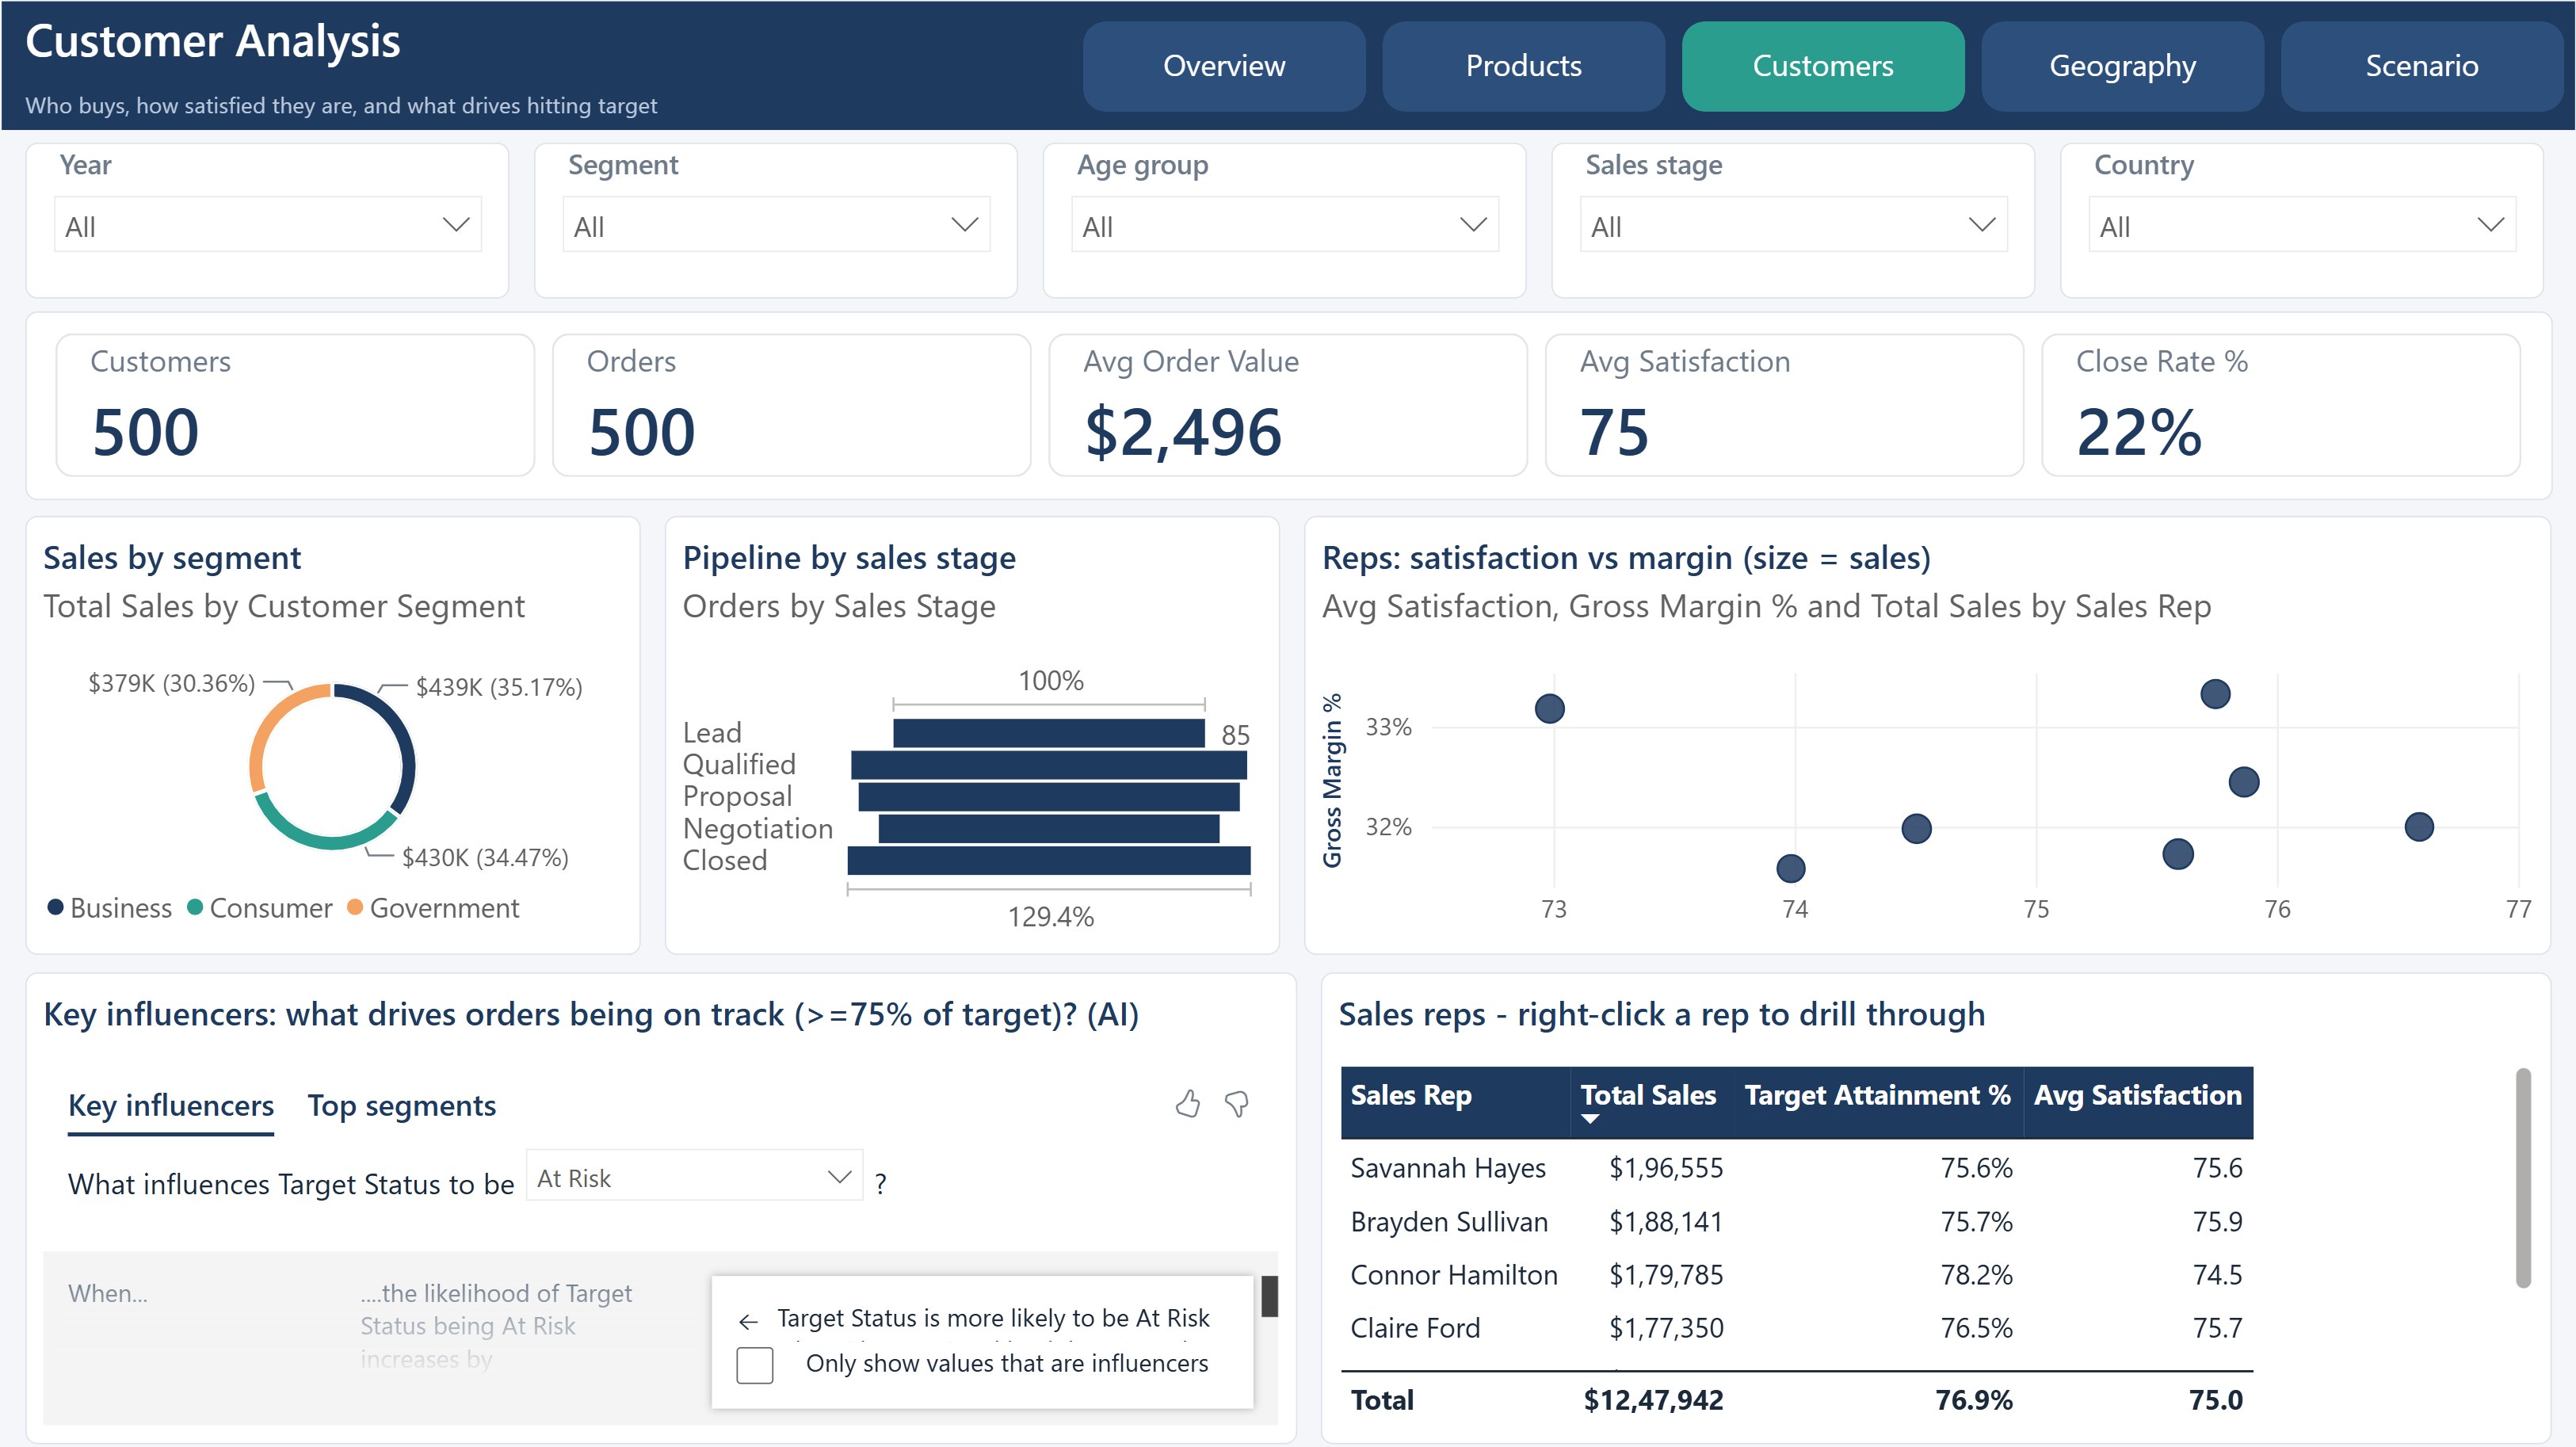

What the dashboard file says about the page in this screenshot:
{"tool":"powerbi","page":{"name":"Customer Analysis","canvas":[1280,720],"ordinal":2},"visuals":[{"type":"basicShape","box":[0,0,1280,64],"z":1010},{"type":"textbox","box":[24,4,470,36],"z":1020},{"type":"textbox","box":[24,40,470,22],"z":1030},{"type":"actionButton","box":[540,10,138,44],"z":1040},{"type":"actionButton","box":[686,10,138,44],"z":1050},{"type":"actionButton","box":[832,10,138,44],"z":1060},{"type":"actionButton","box":[978,10,138,44],"z":1070},{"type":"actionButton","box":[1124,10,138,44],"z":1080},{"type":"slicer","fields":{"Values":["Date.Year"]},"box":[24,70,236,76],"z":1090},{"type":"slicer","fields":{"Values":["Sales.Customer Segment"]},"box":[272,70,236,76],"z":1100},{"type":"slicer","fields":{"Values":["Sales.Age Group"]},"box":[520,70,236,76],"z":1110},{"type":"slicer","fields":{"Values":["Sales.Sales Stage"]},"box":[768,70,236,76],"z":1120},{"type":"slicer","fields":{"Values":["Sales.Country"]},"box":[1016,70,236,76],"z":1130},{"type":"cardVisual","fields":{"Data":["Sales.Customers","Sales.Orders","Sales.Avg Order Value","Sales.Avg Satisfaction","Sales.Close Rate %"]},"box":[24,152,1232,92],"z":1140},{"type":"donutChart","title":"Sales by segment","fields":{"Category":["Sales.Customer Segment"],"Y":["Sales.Total Sales"]},"box":[24,252,300,214],"z":1150},{"type":"funnel","title":"Pipeline by sales stage","fields":{"Category":["Sales.Sales Stage"],"Y":["Sales.Orders"]},"box":[336,252,300,214],"z":1160},{"type":"scatterChart","title":"Reps: satisfaction vs margin (size = sales)","fields":{"Category":["Sales.Sales Rep"],"Size":["Sales.Total Sales"],"X":["Sales.Avg Satisfaction"],"Y":["Sales.Gross Margin %"]},"box":[648,252,608,214],"z":1170},{"type":"keyDriversVisual","title":"Key influencers: what drives orders being on track (>=75% of target)? (AI)","fields":{"ExplainBy":["Sales.Customer Segment","Sales.Age Group","Sales.Channel","Sales.Region","Sales.Product Category","Sales.Discount Band"],"Target":["Sales.Target Status"]},"box":[24,474,620,230],"z":1180},{"type":"tableEx","title":"Sales reps - right-click a rep to drill through","fields":{"Values":["Sales.Sales Rep","Sales.Total Sales","Sales.Target Attainment %","Sales.Avg Satisfaction"]},"box":[656,474,600,230],"z":1190}]}

Visuals, with their boxes in screenshot pixels (x1, y1, x2, y2), scaled from the page's 1280x720 canvas onto the 2576x1447 screenshot:
basicShape: bbox=(0, 0, 2575, 128)
textbox: bbox=(48, 8, 994, 80)
textbox: bbox=(48, 80, 994, 124)
actionButton: bbox=(1087, 20, 1364, 109)
actionButton: bbox=(1380, 20, 1658, 109)
actionButton: bbox=(1674, 20, 1952, 109)
actionButton: bbox=(1968, 20, 2246, 109)
actionButton: bbox=(2262, 20, 2540, 109)
slicer - Date.Year: bbox=(48, 141, 523, 293)
slicer - Sales.Customer Segment: bbox=(548, 141, 1022, 293)
slicer - Sales.Age Group: bbox=(1047, 141, 1521, 293)
slicer - Sales.Sales Stage: bbox=(1546, 141, 2021, 293)
slicer - Sales.Country: bbox=(2044, 141, 2520, 293)
cardVisual - Sales.Customers x Sales.Orders: bbox=(48, 305, 2528, 491)
"Sales by segment" donutChart: bbox=(48, 506, 652, 937)
"Pipeline by sales stage" funnel: bbox=(676, 506, 1280, 937)
"Reps: satisfaction vs margin (size = sales)" scatterChart: bbox=(1304, 506, 2528, 937)
"Key influencers: what drives orders being on track (>=75% of target)? (AI)" keyDriversVisual: bbox=(48, 953, 1296, 1415)
"Sales reps - right-click a rep to drill through" tableEx: bbox=(1320, 953, 2528, 1415)
